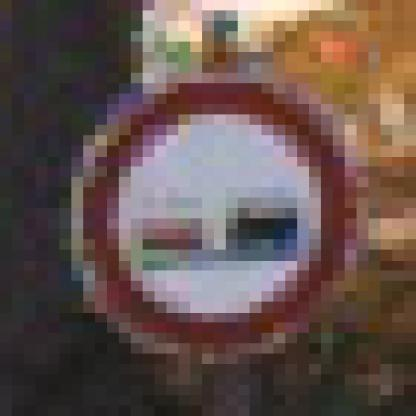No Overtaking: (72, 63, 358, 365)
